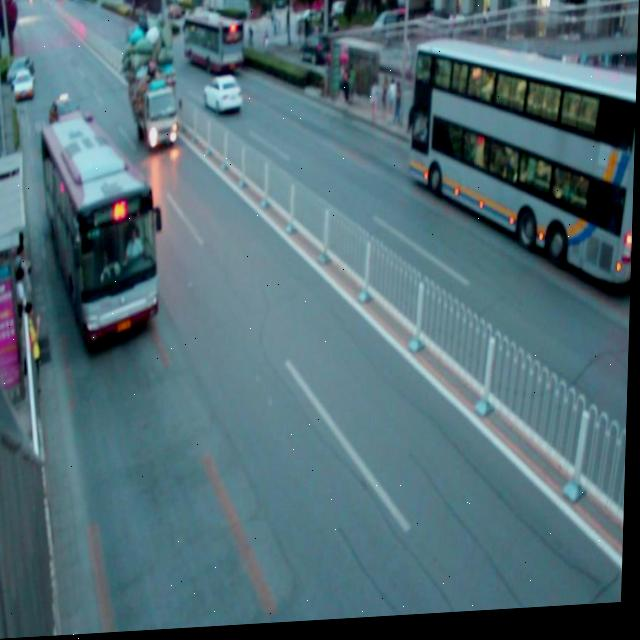bus: (128, 14, 181, 153)
car: (203, 78, 242, 119), (49, 96, 86, 139)
van: (409, 39, 638, 300), (37, 111, 162, 348), (184, 16, 245, 76)
